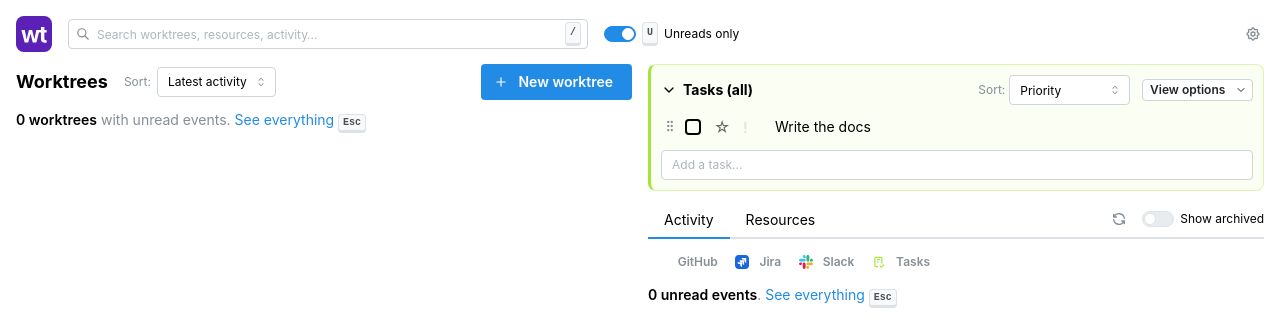
HomePage unread-only toggle › See everything turns Unreads only off, and the lines go
Click the button "See everything" next to "with unread events" at (284, 120), box left=235, top=110, right=334, bottom=130
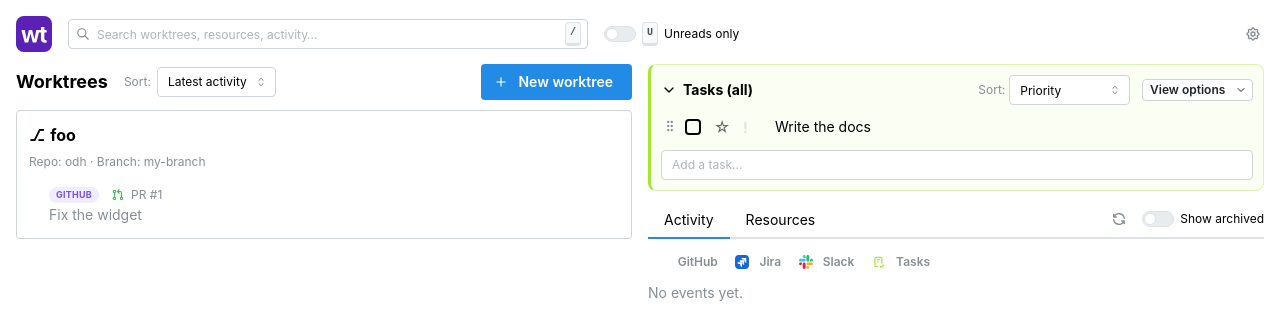
Check: the switch labelled "Unreads only" is not checked, box left=604, top=22, right=739, bottom=46
Check: the text "Repo: odh · Branch: my-branch" is shown, box left=29, top=154, right=206, bottom=169
Check: the element with test id "search-summary" is gone
